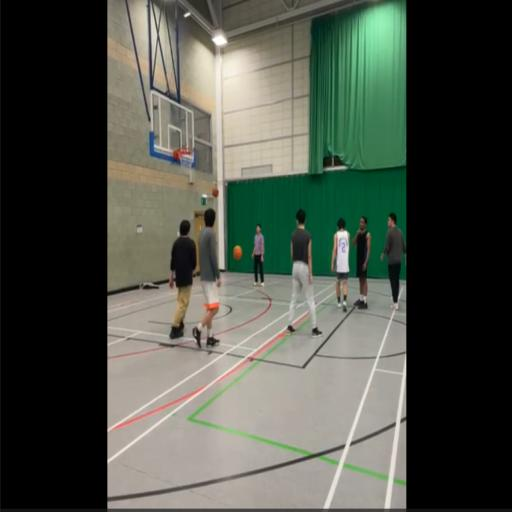hoops: (169, 136, 201, 182)
